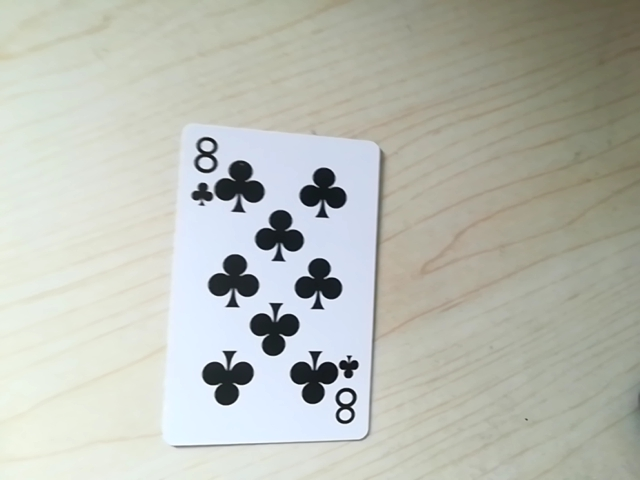mh 8: (331, 354, 370, 434), (184, 130, 227, 202)
